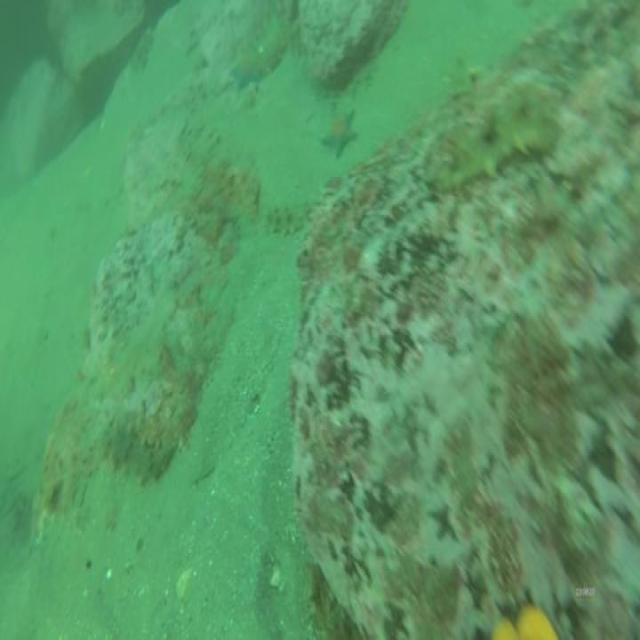holothurian: (428, 108, 562, 194), (259, 198, 313, 240)
starfish: (319, 104, 359, 161), (228, 49, 264, 92)
